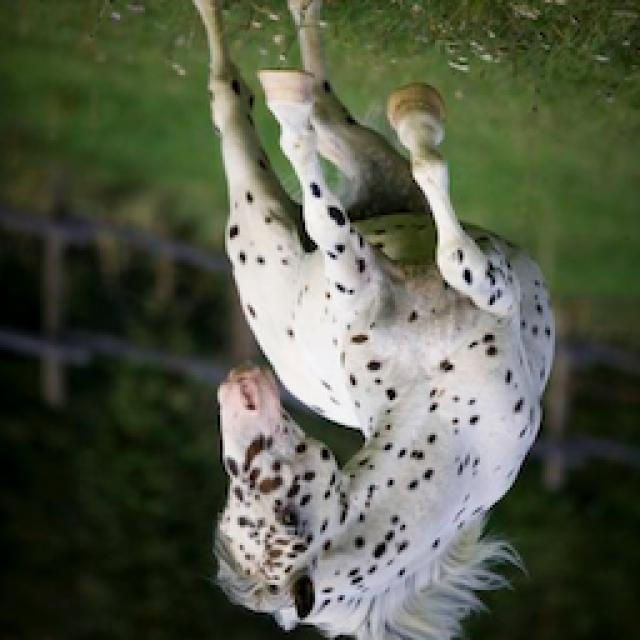Horse: (165, 2, 565, 640)
